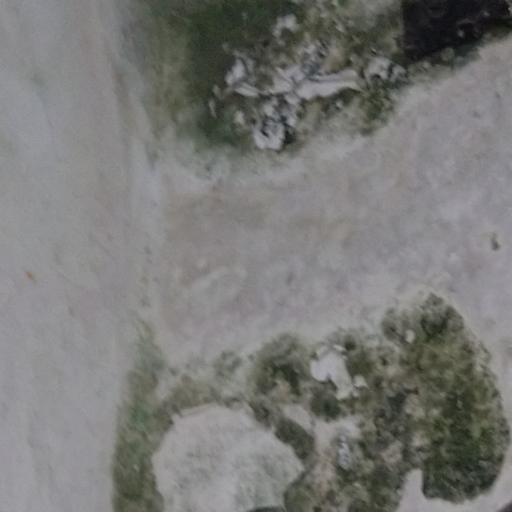algae: (87, 0, 512, 512)
